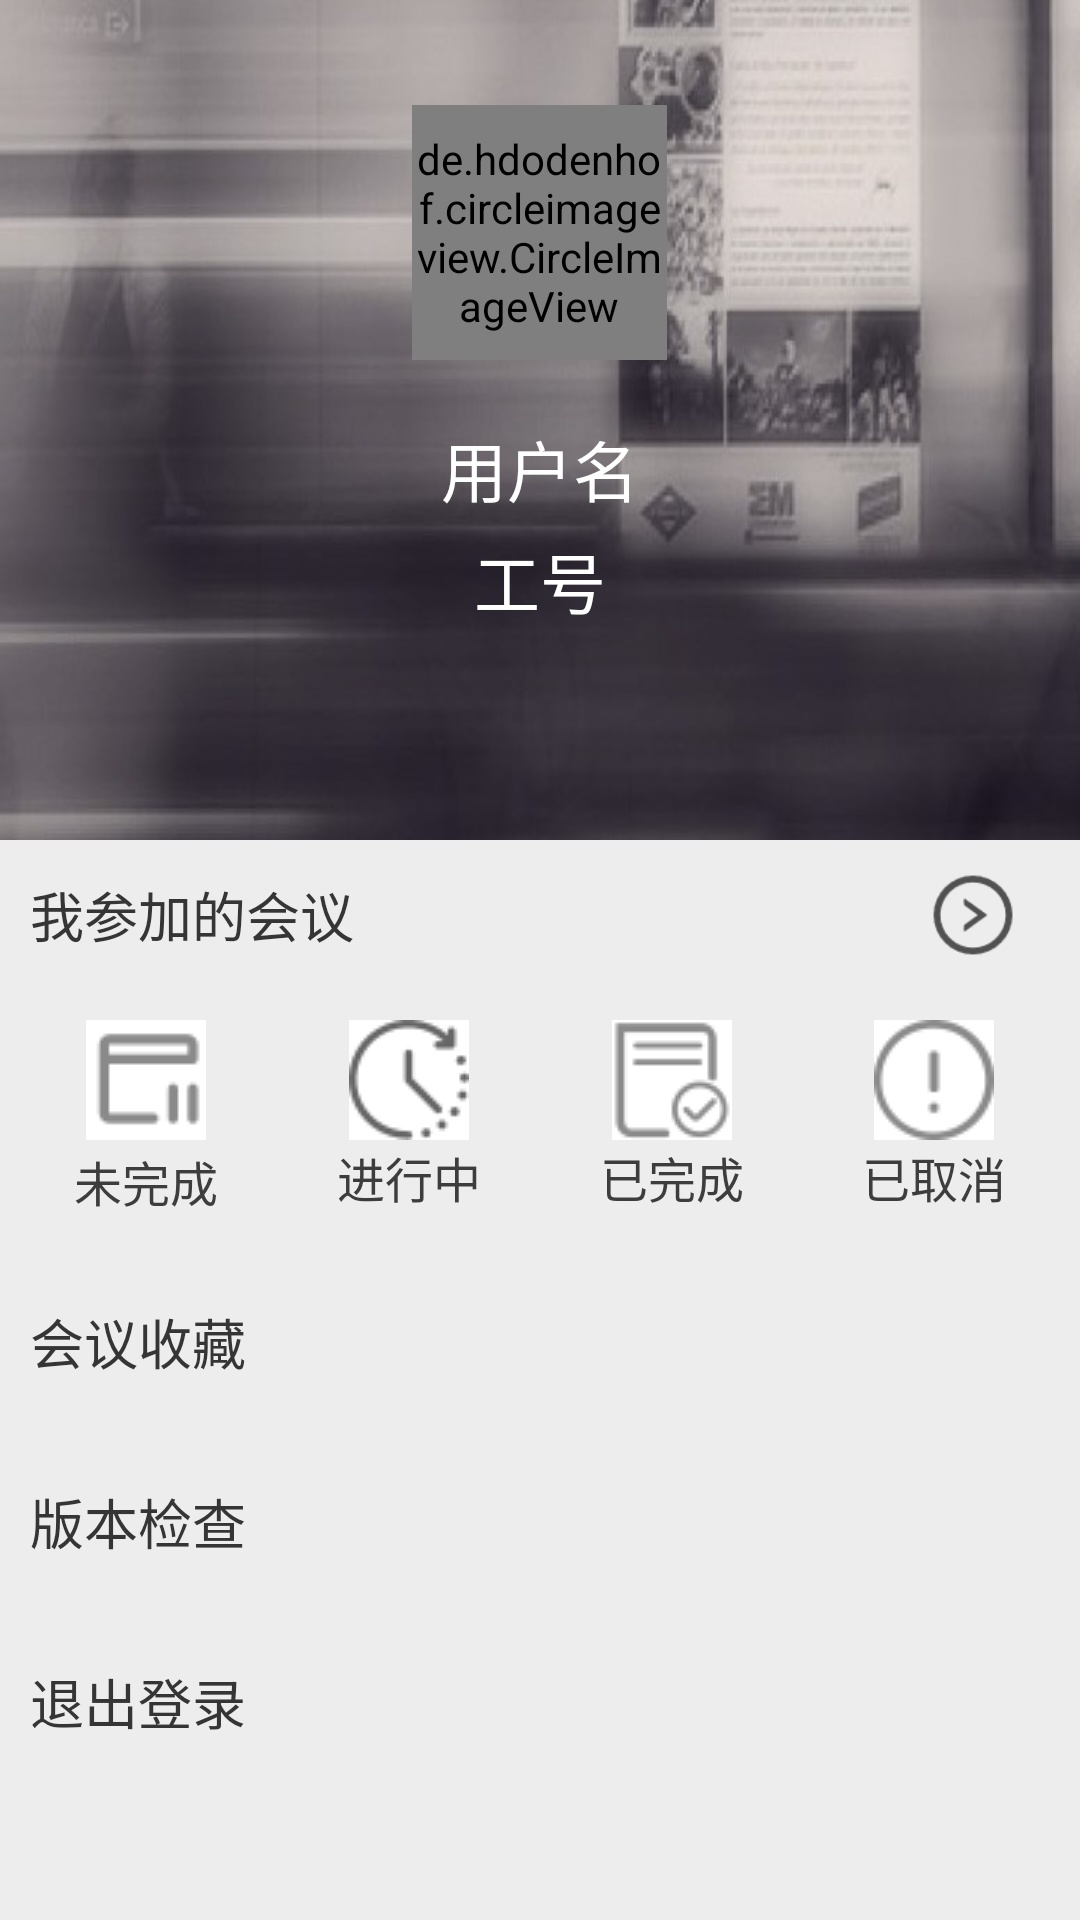

Screen size 1080x1920. Icon name, then its box in pixels as (x1,y1,x2,y2):
rightcircle: (933,875,1013,955)
